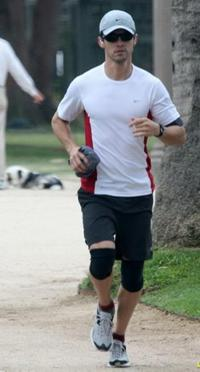person: (52, 9, 187, 368)
